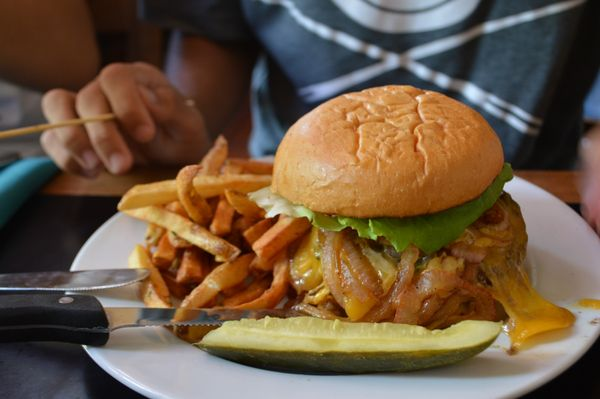sandwich: (1, 268, 150, 293)
soup: (253, 86, 575, 352)
